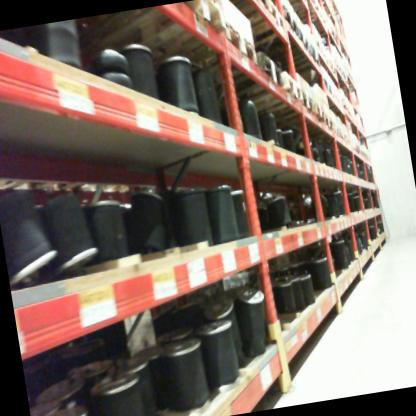pallet: (75, 0, 233, 84), (124, 18, 264, 102), (186, 46, 289, 114), (212, 65, 306, 119), (221, 2, 303, 44), (209, 0, 288, 39), (252, 85, 318, 129), (256, 112, 335, 144), (247, 22, 313, 58), (266, 42, 322, 72), (279, 102, 328, 130), (224, 0, 269, 11)
